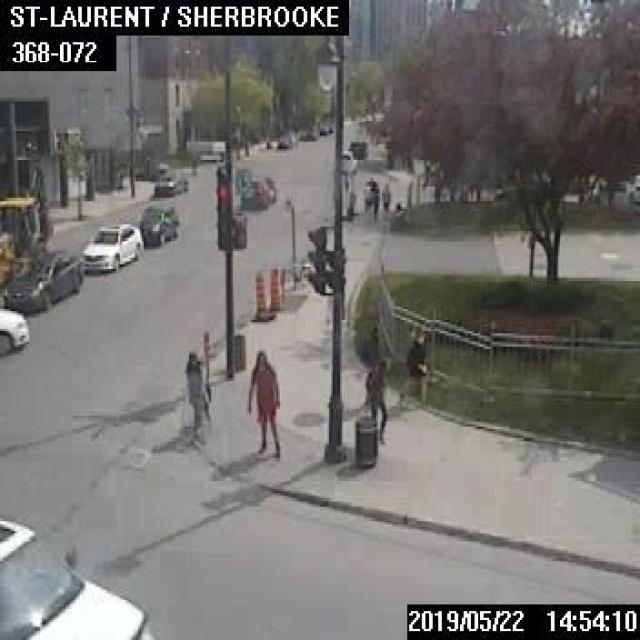construction: (252, 268, 274, 318), (267, 266, 280, 309)
pedestrian: (245, 349, 280, 453), (184, 349, 211, 442), (362, 356, 389, 440), (404, 327, 424, 393), (361, 180, 370, 218), (380, 180, 389, 212), (371, 185, 379, 217)
vehicle: (0, 513, 151, 638), (0, 161, 53, 283), (2, 247, 82, 313), (81, 222, 141, 273), (137, 202, 177, 243), (0, 307, 27, 352), (240, 173, 275, 207), (151, 171, 185, 196), (340, 149, 355, 174), (348, 138, 367, 156), (276, 134, 290, 146)
